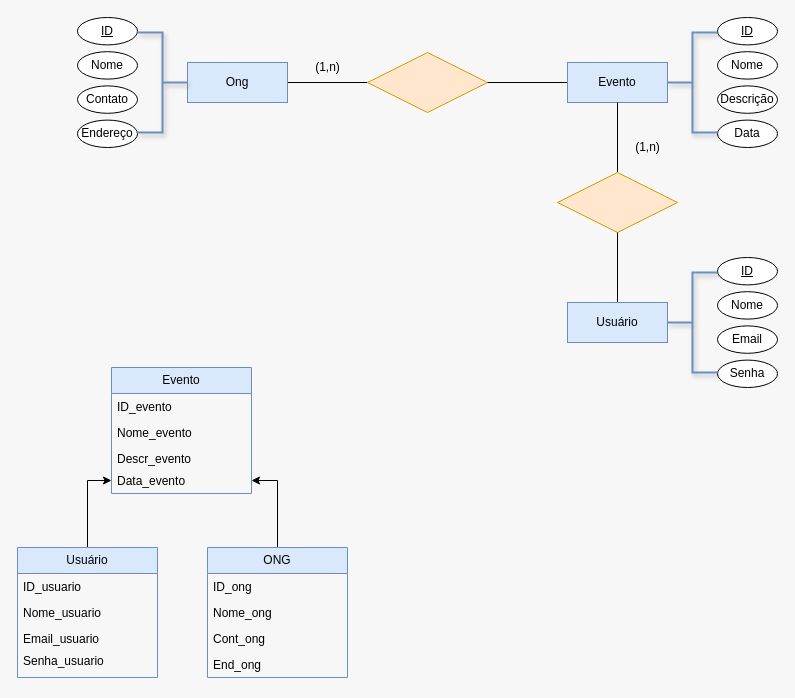
Image size: 795x698. Some labels were removed from this diagram. Each missing label, with the centre of its shape:
"Organiza" belongs at pixel 427 82.
"Participa" belongs at pixel 617 202.
